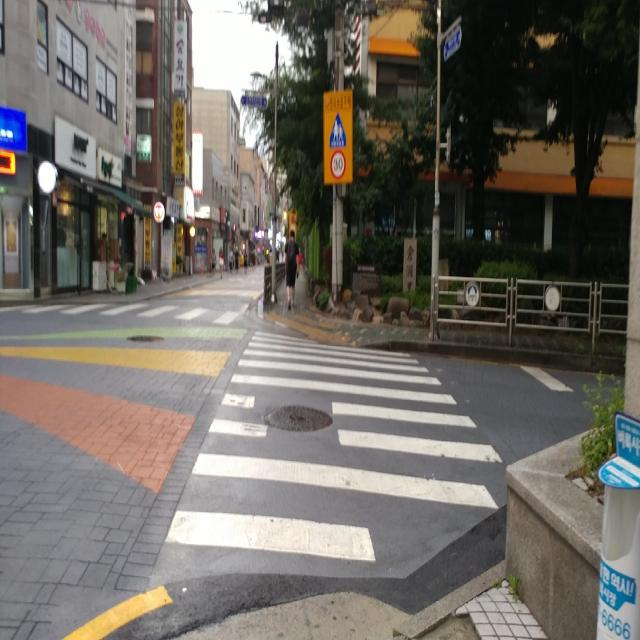횡단보도: (162, 328, 505, 567)
